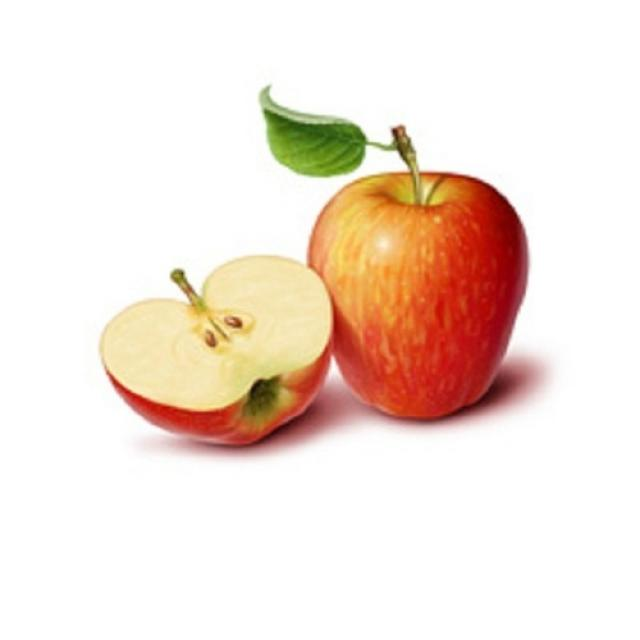apple: (297, 152, 540, 423), (92, 244, 340, 460)
